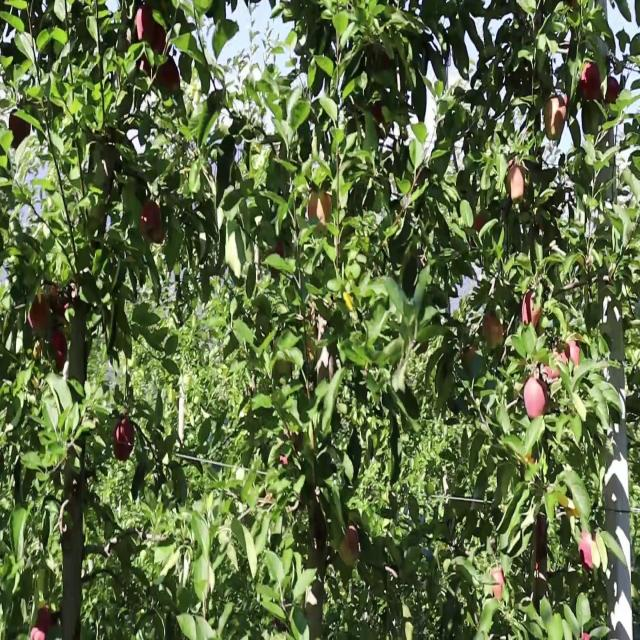apple: (136, 7, 168, 55), (140, 199, 165, 247), (144, 7, 168, 57), (524, 376, 548, 420), (544, 99, 568, 142), (504, 163, 527, 204), (580, 63, 604, 101), (28, 298, 51, 336), (116, 419, 136, 462), (308, 191, 332, 226), (160, 56, 181, 96), (524, 291, 544, 329), (8, 113, 31, 146), (484, 312, 505, 348), (544, 348, 566, 382), (116, 426, 136, 462), (340, 526, 360, 560), (580, 533, 597, 569), (52, 334, 68, 370), (492, 568, 506, 601), (564, 341, 581, 368), (608, 78, 621, 107), (372, 99, 384, 124), (520, 455, 538, 471), (140, 56, 153, 78), (520, 455, 537, 471), (476, 213, 487, 235), (568, 504, 580, 519)
